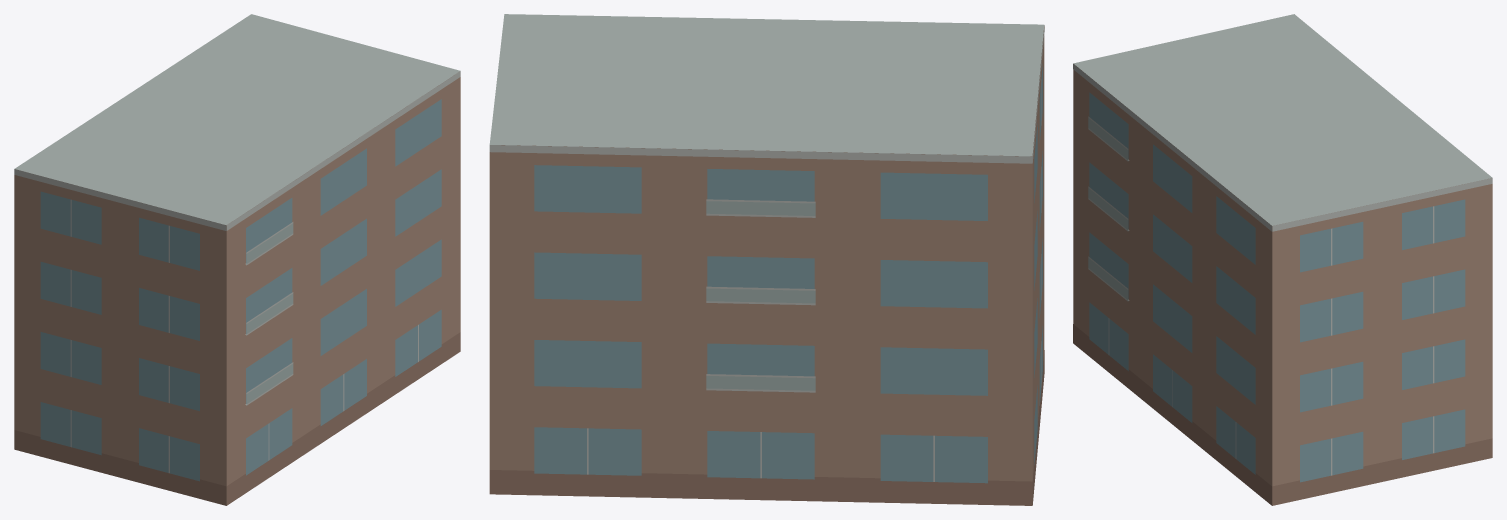
Rendered from survey-upis-32822723.glb.
3 renders of one model, left to right at view 1: azimuth 30°, elevation 25°; view 2: azimuth 150°, elevation 25°; view 3: azimuth 270°, elevation 25°, orthographic. The views are drawn at different scales.
Visible parts, largest first — view 1: survey-upis-32822723.tmp; view 2: survey-upis-32822723.tmp; view 3: survey-upis-32822723.tmp.
Boxes of the visible parts, x1,y1,x2,y2 form: survey-upis-32822723.tmp: [14, 14, 460, 505]; survey-upis-32822723.tmp: [489, 14, 1044, 505]; survey-upis-32822723.tmp: [1073, 14, 1492, 505].
Bounding box in the file's own units: 18.84 × 11.6 × 15.76.
